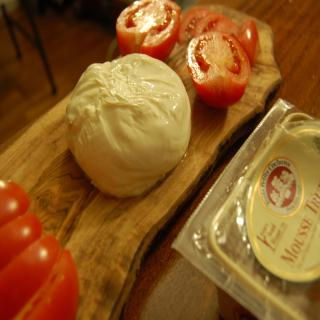tomato: (0, 176, 77, 319), (185, 27, 258, 107), (116, 0, 180, 59), (177, 8, 235, 48), (234, 16, 258, 70)
